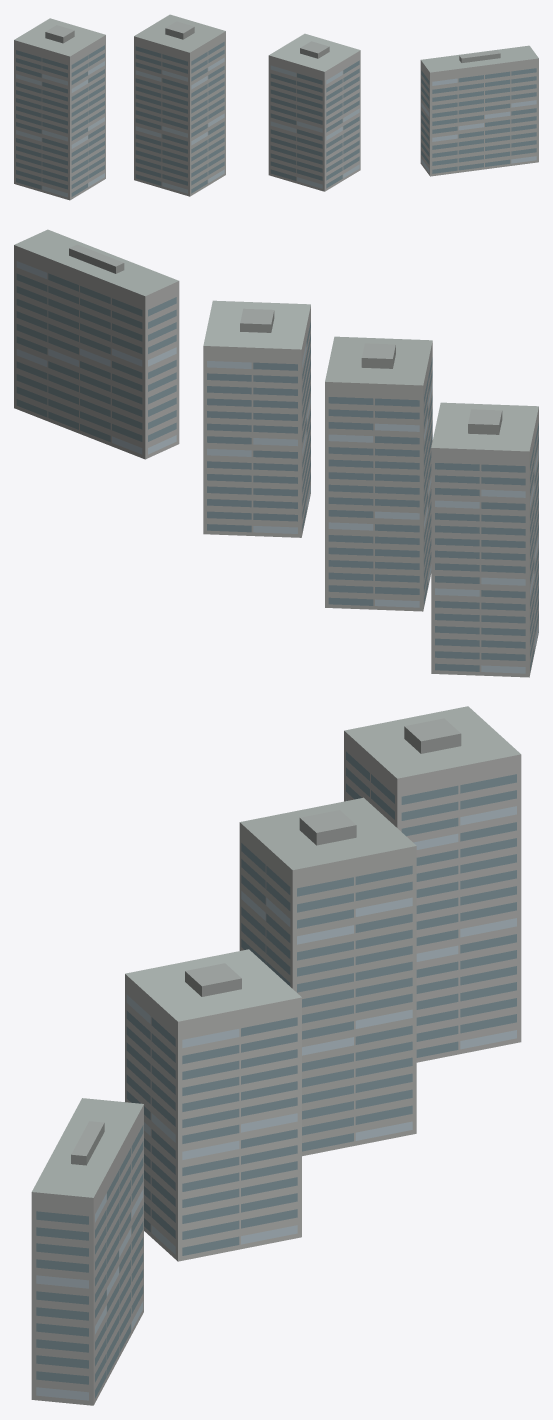
Rendered from apt-a13203002.glb.
3 renders of one model, top to bottom at view 1: azimuth 30°, elevation 25°; view 2: azimuth 150°, elevation 25°; view 3: azimuth 270°, elevation 25°, orthographic. The views are drawn at different scales.
Visible parts, largest first — view 1: apt-a13203002; view 2: apt-a13203002; view 3: apt-a13203002.
Part boxes in pixels (bbox=[...]): apt-a13203002: bbox=[14, 14, 538, 200]; apt-a13203002: bbox=[14, 229, 538, 677]; apt-a13203002: bbox=[31, 706, 521, 1405].
Bounding box in the file's own units: 168 × 57.3 × 84.64.
